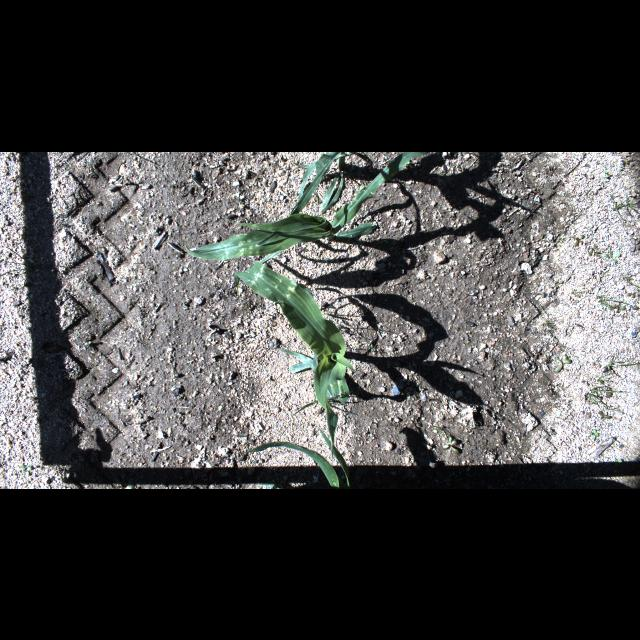crop: (233, 261, 361, 465), (238, 426, 352, 486), (286, 151, 346, 223)
weed: (184, 151, 430, 265), (586, 385, 630, 405), (612, 193, 638, 221), (602, 358, 638, 378), (598, 293, 628, 309), (554, 354, 572, 372), (433, 426, 455, 440), (443, 436, 459, 454), (462, 420, 478, 434), (597, 372, 617, 382), (540, 319, 556, 331), (604, 250, 620, 262), (20, 464, 32, 478), (625, 276, 639, 288), (588, 427, 600, 439), (608, 304, 626, 312), (572, 234, 584, 246), (598, 410, 612, 420), (630, 238, 640, 252), (588, 244, 598, 256), (604, 168, 612, 176), (614, 458, 622, 464), (370, 342, 374, 352)
